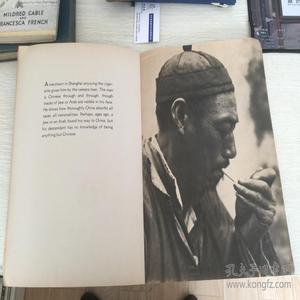cigarette: (220, 168, 242, 187)
